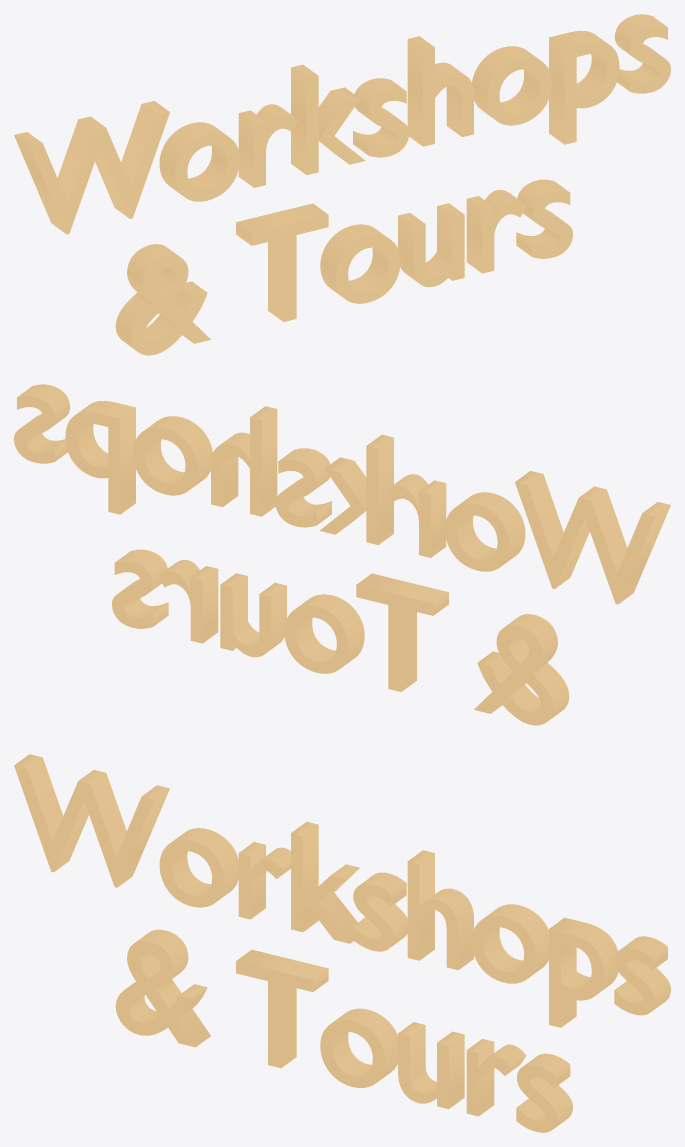
File: wttext.glb
The picture shows the model from 3 angles, top to bottom: view 1: azimuth 30°, elevation 25°; view 2: azimuth 150°, elevation 25°; view 3: azimuth 330°, elevation 25°; orthographic projection.
Visible parts, largest first — view 1: Text; view 2: Text; view 3: Text.
Boxes of the visible parts, x1,y1,x2,y2 form: Text: [14, 14, 670, 355]; Text: [14, 384, 670, 725]; Text: [14, 754, 670, 1132].
Size of the model in its own units: 4.75 by 1.69 by 0.2.
